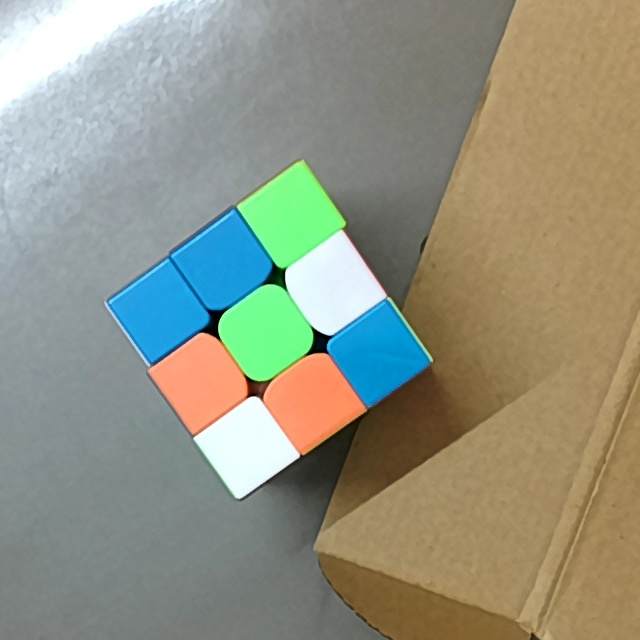tile: (301, 256, 361, 315), (282, 374, 343, 428), (259, 190, 322, 242), (171, 354, 231, 408), (238, 307, 294, 361), (352, 327, 406, 382), (131, 285, 185, 338), (199, 236, 251, 290), (223, 420, 273, 471)
